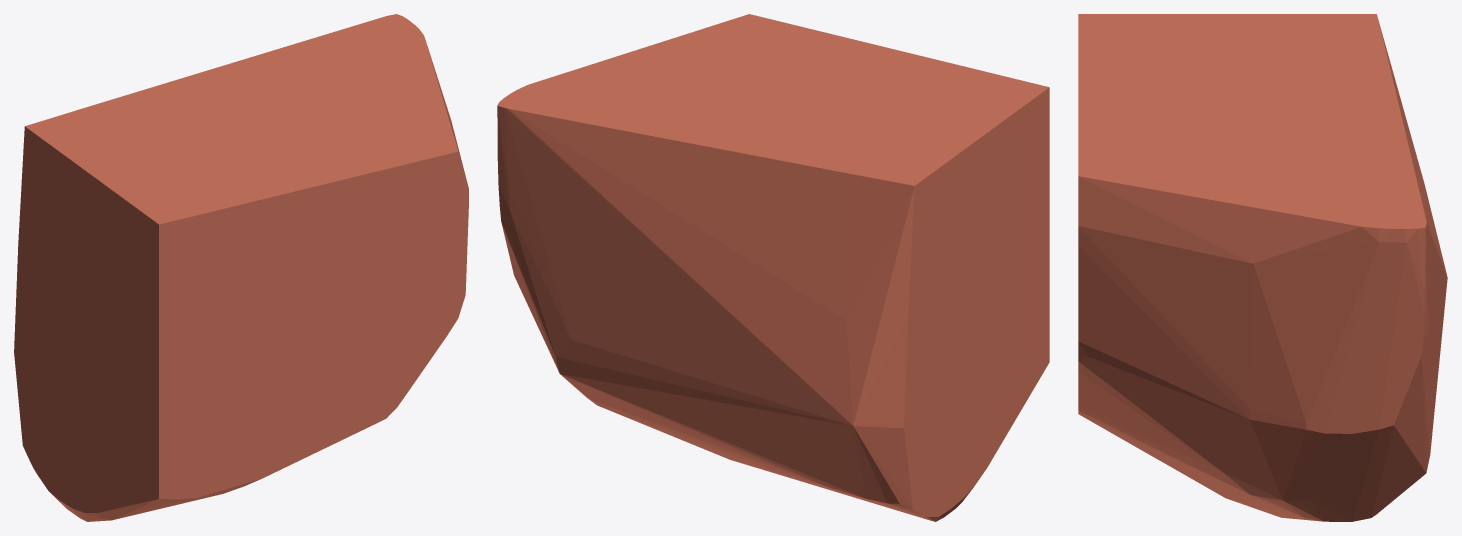
3 renders of one model, left to right at view 1: azimuth 30°, elevation 25°; view 2: azimuth 150°, elevation 25°; view 3: azimuth 270°, elevation 25°, orthographic. The views are drawn at different scales.
Bounding box in the file's own units: 0.0317 × 0.0272 × 0.0229.
